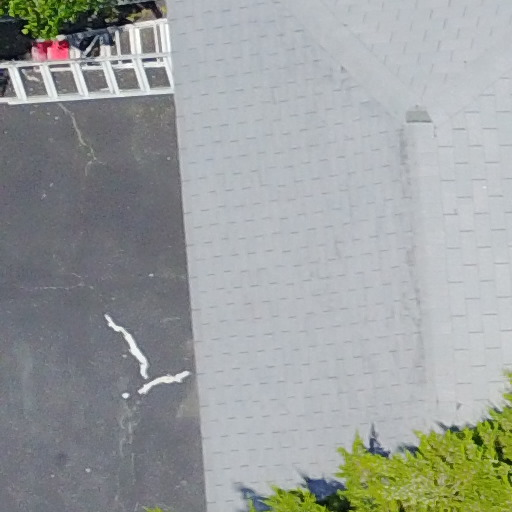ladder: (1, 47, 175, 113), (16, 22, 178, 61)
